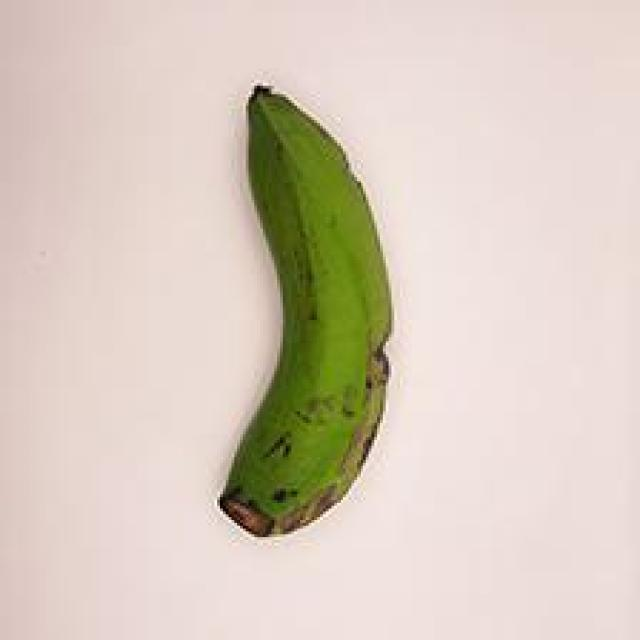Raw: (156, 53, 426, 556)
